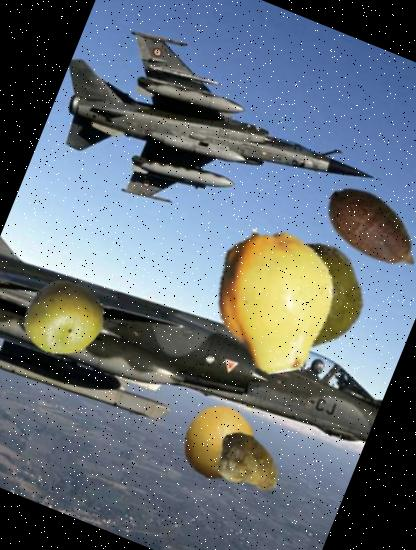Ginger: (201, 419, 293, 511)
Grapefruit: (171, 394, 267, 490)
Guava: (226, 220, 380, 375)
Nut: (302, 159, 416, 300)
Pomelo: (10, 265, 115, 370)
Quince: (181, 204, 371, 394)
